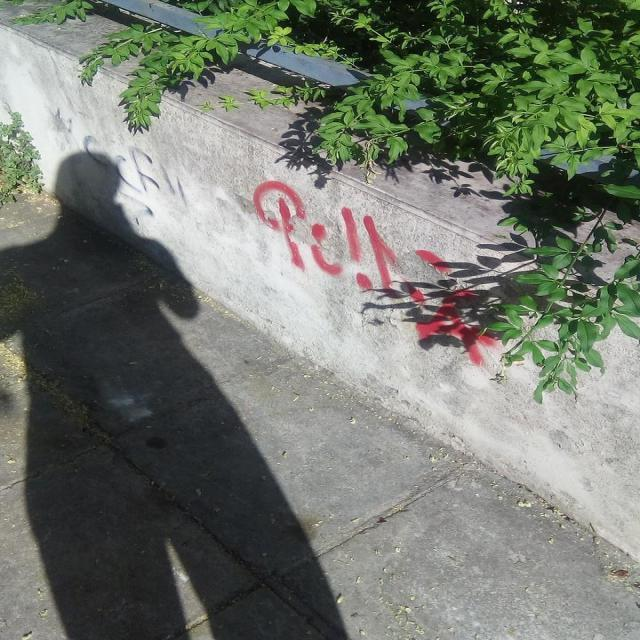nonspitting: (252, 180, 496, 366), (82, 133, 187, 224)
